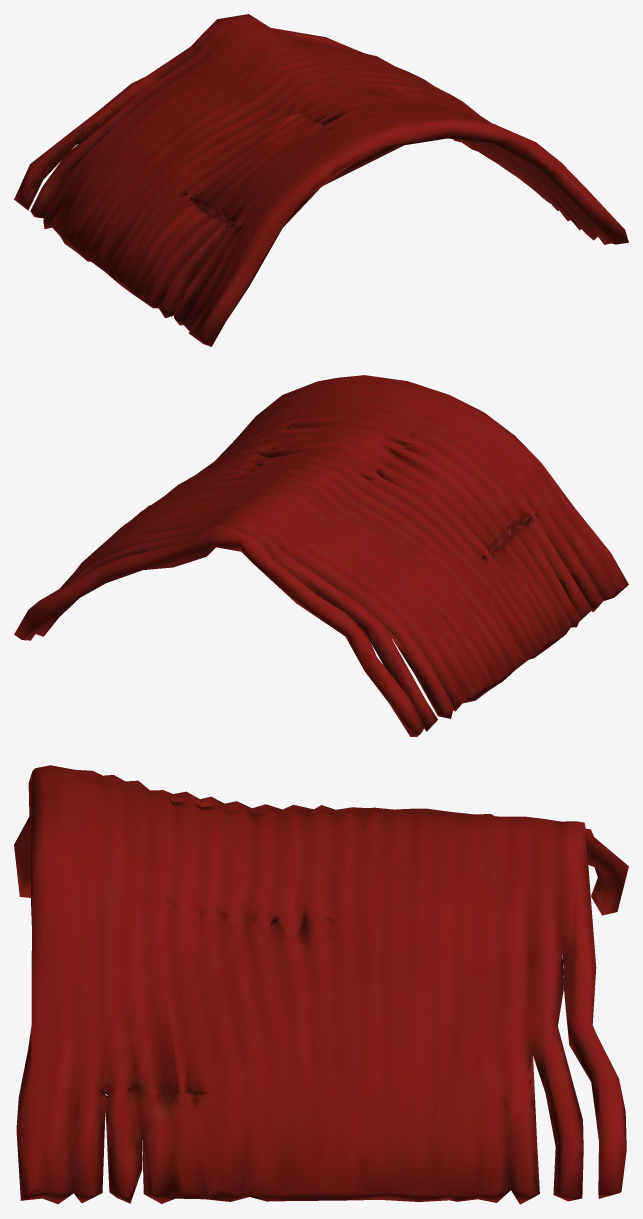
The model's file is trau_cloth.glb.
The picture shows the model from 3 angles, top to bottom: view 1: azimuth 30°, elevation 25°; view 2: azimuth 150°, elevation 25°; view 3: azimuth 270°, elevation 25°; orthographic projection. The views are drawn at different scales.
Visible parts, largest first — view 1: trau_cloth; view 2: trau_cloth; view 3: trau_cloth.
Boxes of the visible parts, x1,y1,x2,y2 form: trau_cloth: (14, 14, 628, 346); trau_cloth: (14, 375, 628, 736); trau_cloth: (14, 765, 628, 1204).
Size of the model in its own units: 0.881 by 0.344 by 0.7266.
1 material, 1 textured.
